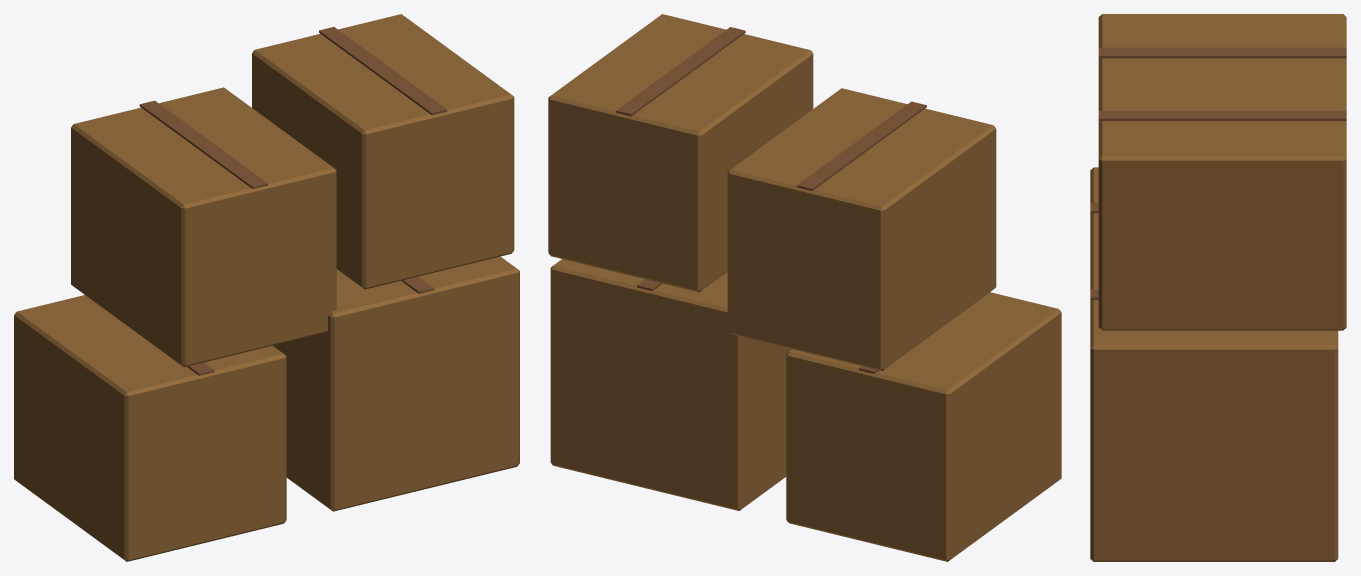
File: StackedBoxesCover.fbx
3 renders of one model, left to right at view 1: azimuth 30°, elevation 25°; view 2: azimuth 150°, elevation 25°; view 3: azimuth 270°, elevation 25°, orthographic. The views are drawn at different scales.
Parts seen in each view (by area): view 1: StackedBoxesCover; view 2: StackedBoxesCover; view 3: StackedBoxesCover.
Part boxes in pixels (left/top/right/bottom): StackedBoxesCover: left=14, top=14, right=519, bottom=561; StackedBoxesCover: left=548, top=14, right=1061, bottom=561; StackedBoxesCover: left=1090, top=14, right=1346, bottom=561.
Size of the model in its own units: 117 by 105 by 60.
1 material, 1 textured.
